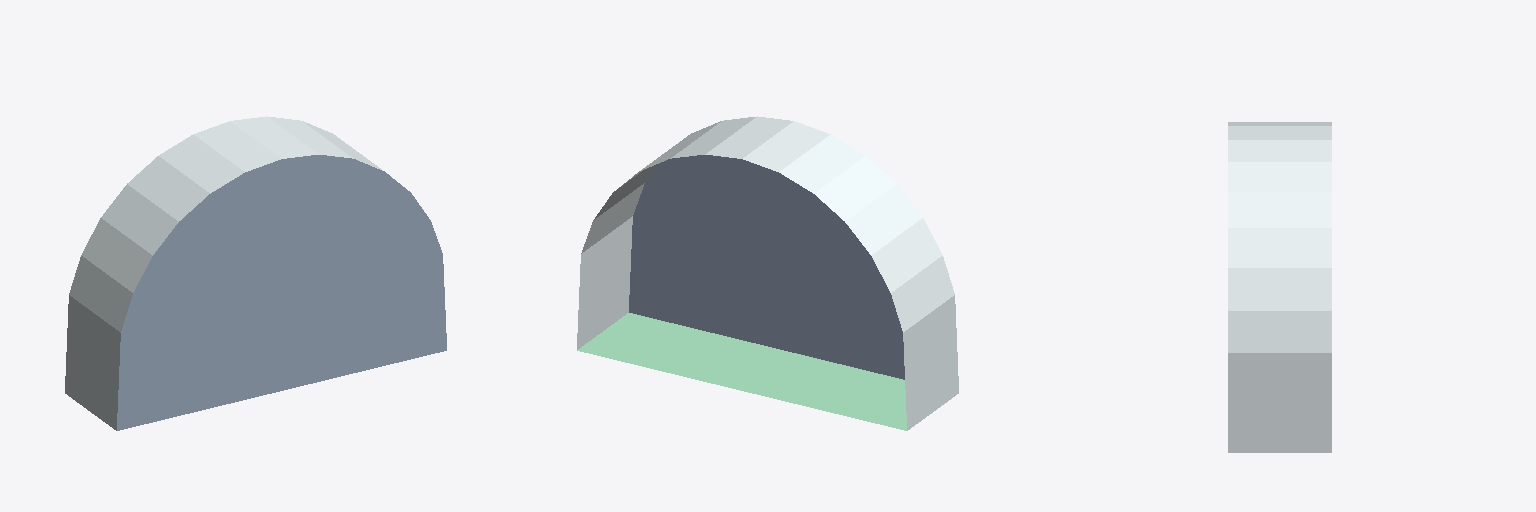
File: Room.obj
The picture shows the model from 3 angles: view 1: azimuth 30°, elevation 25°; view 2: azimuth 150°, elevation 25°; view 3: azimuth 270°, elevation 25°; orthographic projection.
Parts seen in each view (by area): view 1: Room; view 2: Room; view 3: Room.
Boxes of the visible parts, <box> form: Room: <box>65,116,446,430</box>; Room: <box>577,116,958,430</box>; Room: <box>1228,122,1331,452</box>.
Bounding box in the file's own units: 14.68 × 9.84 × 4.